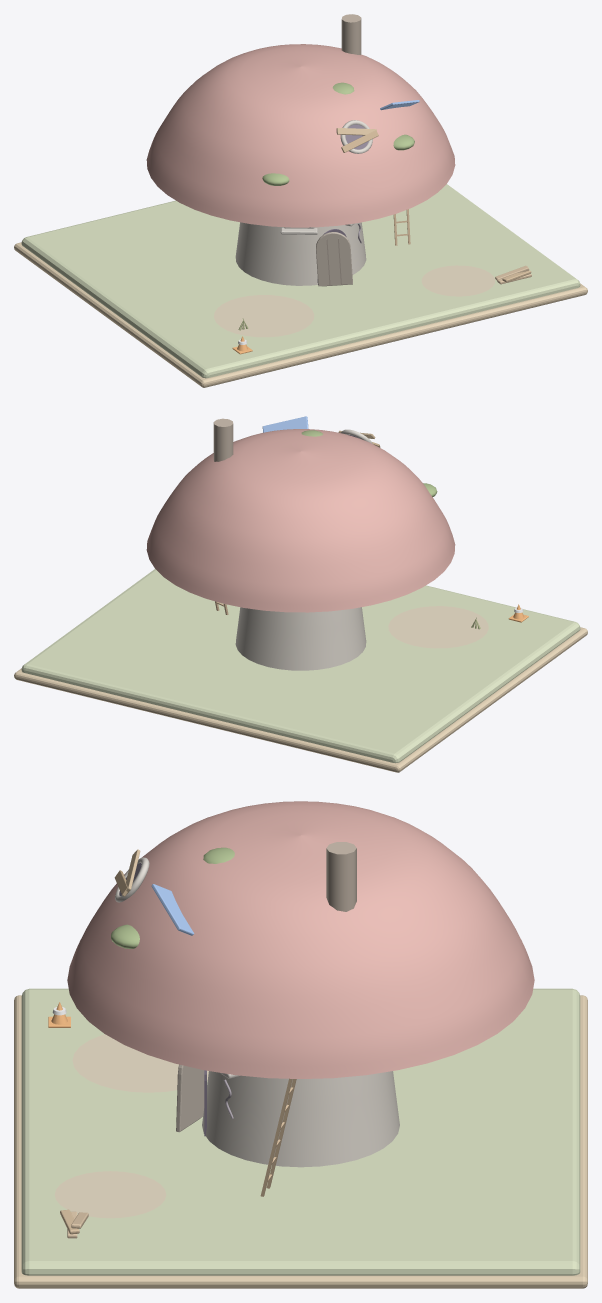
The model's file is building_forest_L02.glb.
3 renders of one model, top to bottom at view 1: azimuth 30°, elevation 25°; view 2: azimuth 150°, elevation 25°; view 3: azimuth 270°, elevation 25°, orthographic. The views are drawn at different scales.
Visible parts, largest first — view 1: forest_L2; view 2: forest_L2; view 3: forest_L2.
Boxes of the visible parts, x1=… form: forest_L2: x1=14, y1=14, x2=587, y2=387; forest_L2: x1=14, y1=416, x2=587, y2=772; forest_L2: x1=14, y1=801, x2=587, y2=1288.
Size of the model in its own units: 26.61 by 15.07 by 22.6.
